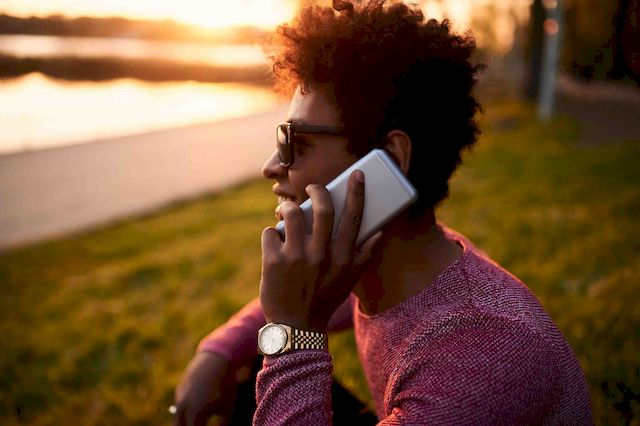phone: (277, 159, 420, 246)
talk: (256, 116, 431, 313)
